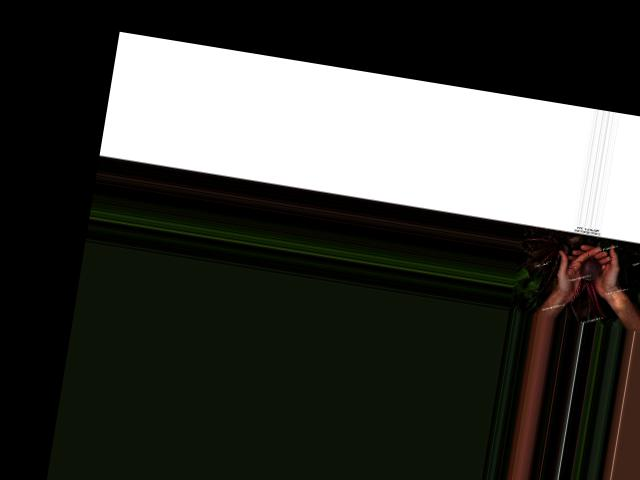beet: (566, 253, 616, 324)
